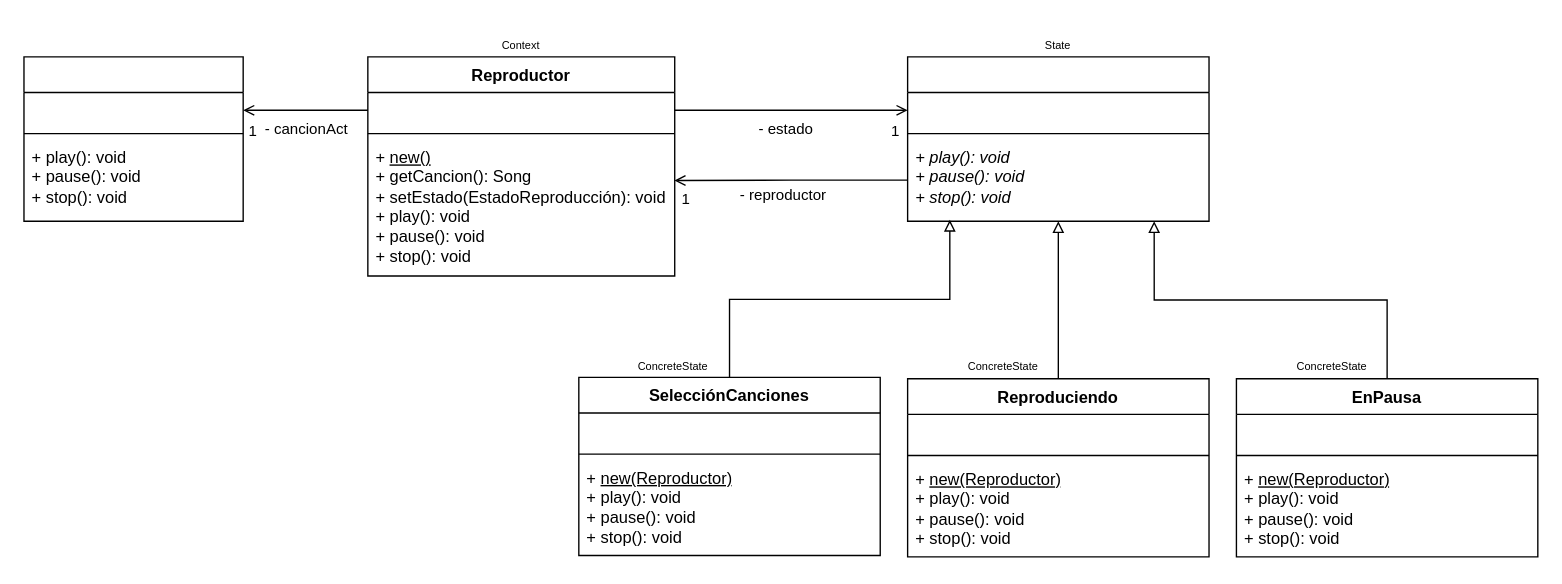
This 1562x584 diagram has some shape labels left out. The box of each missing label's shape, as (x1, y1, x2, y2) in pixels:
<<abstract>> EstadoReproducción: (906, 55, 1209, 221)
<<interface>> Song: (23, 55, 243, 221)
